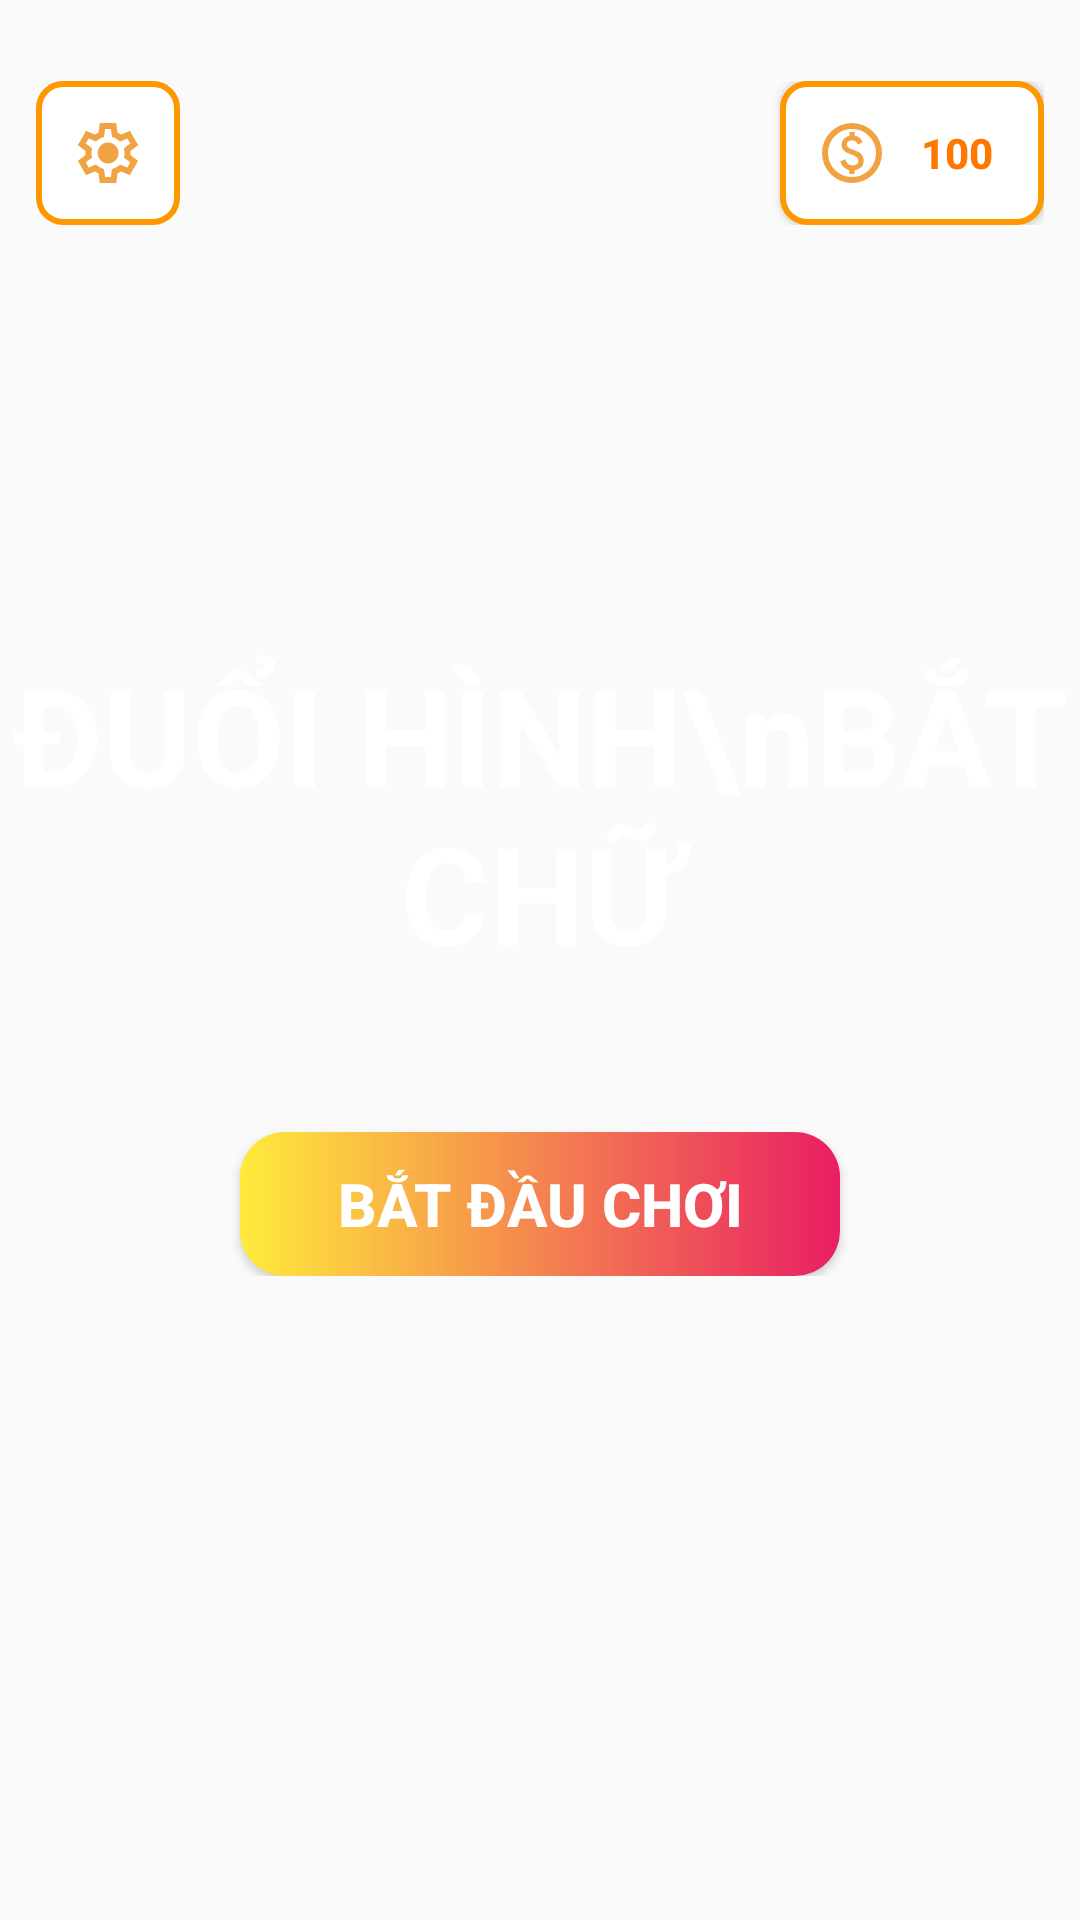

Icon click points for this 1080w x 1920h phone screenshot, format [x,y]:
Nút cài đặt trò chơi: [108,153]
